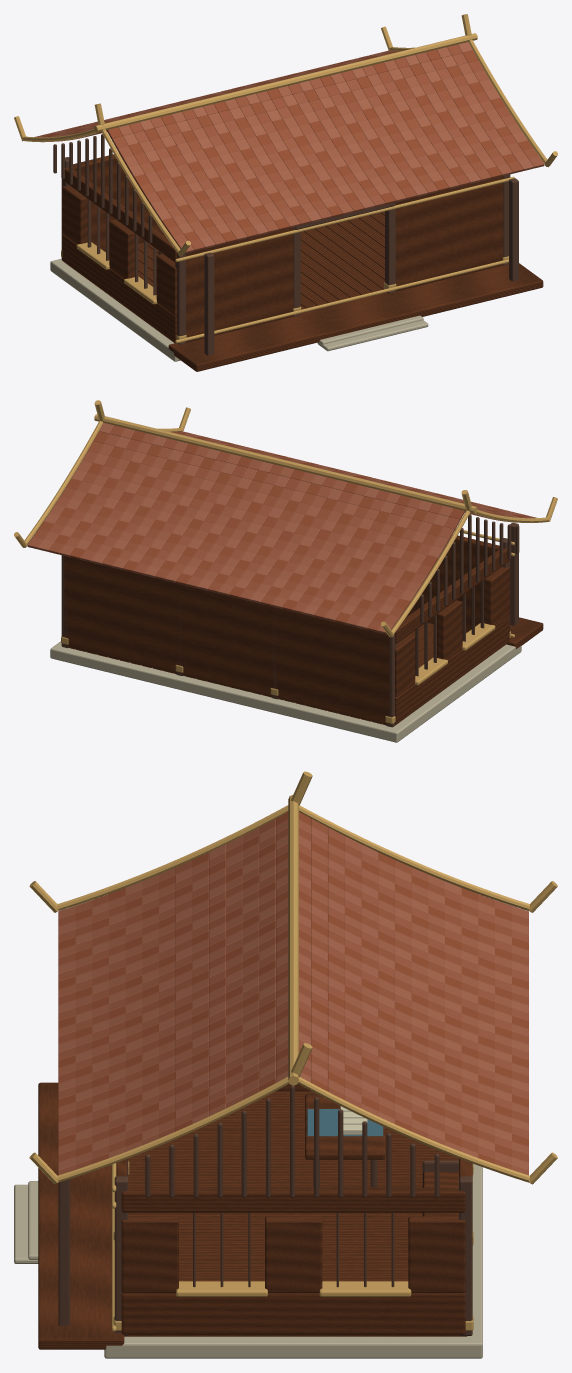
Rendered from merchant-pavilion.glb.
3 views of the same model, one above another, from view 1: azimuth 30°, elevation 25°; view 2: azimuth 150°, elevation 25°; view 3: azimuth 270°, elevation 25° (orthographic). The views are drawn at different scales.
Parts seen in each view (by area): view 1: Shell__Teak, Floor__Teak, Roof__Clay tile 1, Roof__Clay tile 2, Roof__Clay tile 0, Roof__Clay tile 4, Roof__Clay tile 3, Shell__Teak.001, Roof__Aged brass, Floor__Sandstone plinth, Shell__Aged brass, Roof__Teak; view 2: Shell__Teak, Roof__Clay tile 1, Roof__Clay tile 0, Roof__Clay tile 2, Roof__Clay tile 4, Roof__Clay tile 3, Floor__Sandstone plinth, Roof__Aged brass, Shell__Teak.001, Roof__Teak, Floor__Teak, Shell__Aged brass; view 3: Floor__Teak, Shell__Teak, Roof__Clay tile 1, Roof__Clay tile 3, Roof__Clay tile 2, Roof__Clay tile 4, Roof__Clay tile 0, Roof__Aged brass, Floor__Sandstone plinth, Shell__Teak.001, Roof__Teak, Shell__Aged brass (+3 smaller).
Part boxes in pixels (x1,y1,x2,y2): Shell__Teak: [62, 153, 503, 343]; Floor__Teak: [68, 211, 543, 371]; Roof__Clay tile 1: [40, 44, 538, 251]; Roof__Clay tile 2: [41, 50, 544, 245]; Roof__Clay tile 0: [46, 49, 532, 243]; Roof__Clay tile 4: [51, 42, 533, 248]; Roof__Clay tile 3: [34, 47, 527, 253]; Shell__Teak.001: [61, 157, 518, 355]; Roof__Aged brass: [14, 14, 557, 256]; Floor__Sandstone plinth: [50, 258, 428, 361]; Shell__Aged brass: [61, 176, 514, 343]; Roof__Teak: [53, 134, 152, 243]; Shell__Teak: [64, 535, 509, 724]; Roof__Clay tile 1: [33, 425, 531, 632]; Roof__Clay tile 0: [38, 430, 526, 624]; Roof__Clay tile 2: [27, 431, 530, 626]; Roof__Clay tile 4: [38, 423, 521, 629]; Roof__Clay tile 3: [44, 428, 536, 634]; Floor__Sandstone plinth: [50, 641, 521, 742]; Roof__Aged brass: [14, 400, 557, 637]; Shell__Teak.001: [61, 522, 518, 727]; Roof__Teak: [420, 514, 519, 623]; Floor__Teak: [69, 617, 543, 725]; Shell__Aged brass: [61, 528, 514, 723]; Floor__Teak: [38, 1082, 467, 1349]; Shell__Teak: [116, 1084, 472, 1334]; Roof__Clay tile 1: [58, 818, 528, 1169]; Roof__Clay tile 3: [58, 820, 528, 1164]; Roof__Clay tile 2: [58, 827, 528, 1175]; Roof__Clay tile 4: [58, 826, 528, 1170]; Roof__Clay tile 0: [58, 812, 528, 1163]; Roof__Aged brass: [29, 771, 557, 1184]; Floor__Sandstone plinth: [14, 1164, 482, 1358]; Shell__Teak.001: [58, 1158, 472, 1335]; Roof__Teak: [145, 1085, 439, 1197]; Shell__Aged brass: [111, 1161, 473, 1331].
Bounding box in the file's own units: 11.6 × 6.2 × 9.48.
11 materials, 1 textured.
